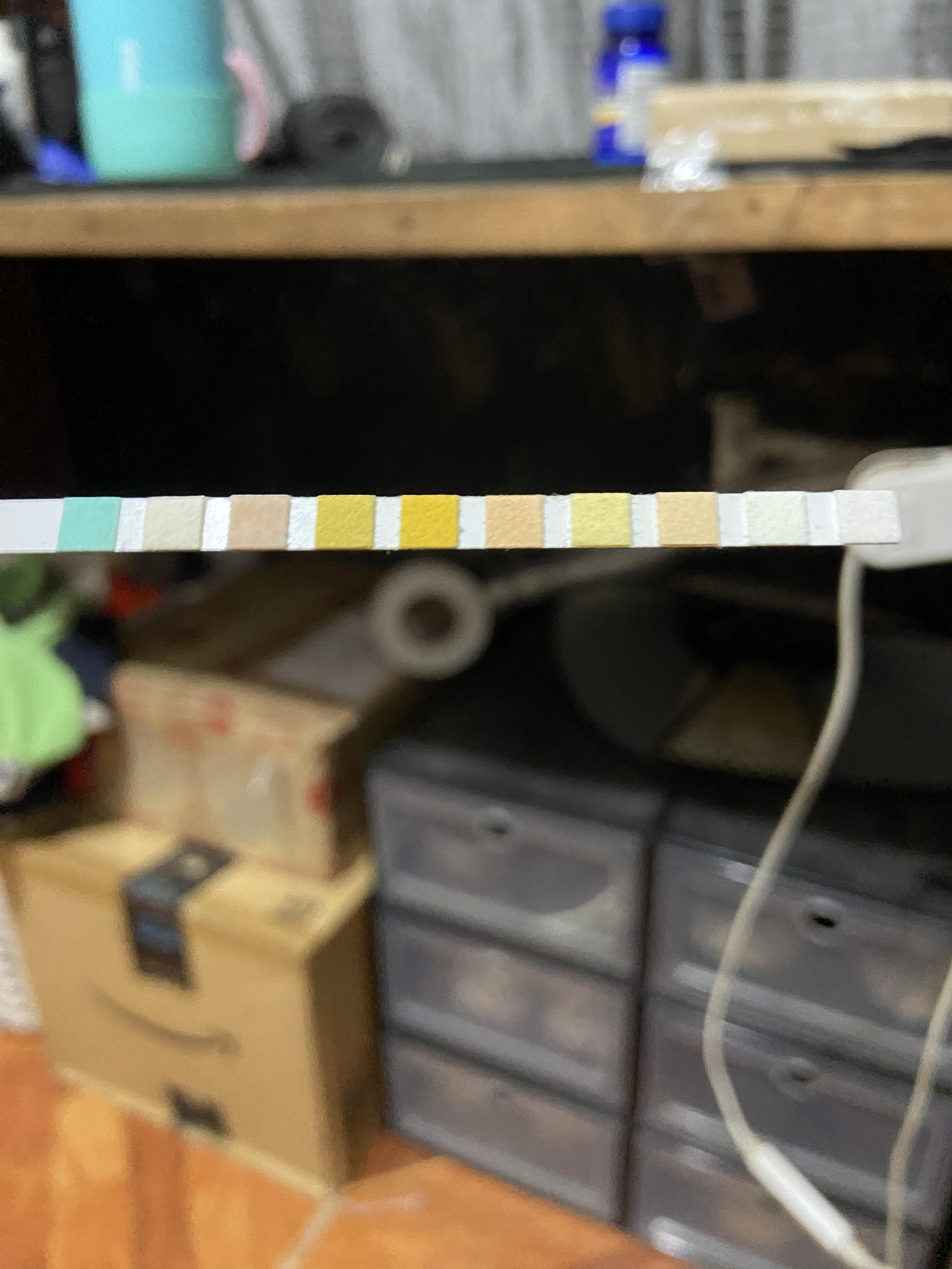Bilirubin: (148, 498, 200, 550)
Blood: (403, 496, 457, 548)
Glucose: (65, 498, 115, 550)
Ketone: (234, 496, 286, 549)
Leukocytes: (843, 491, 893, 542)
Nitrite: (750, 493, 805, 544)
Protein: (573, 494, 628, 546)
SpGravity: (319, 496, 373, 549)
Urobilinogen: (658, 492, 715, 545)
pH: (488, 496, 542, 547)
strip: (0, 492, 902, 554)
